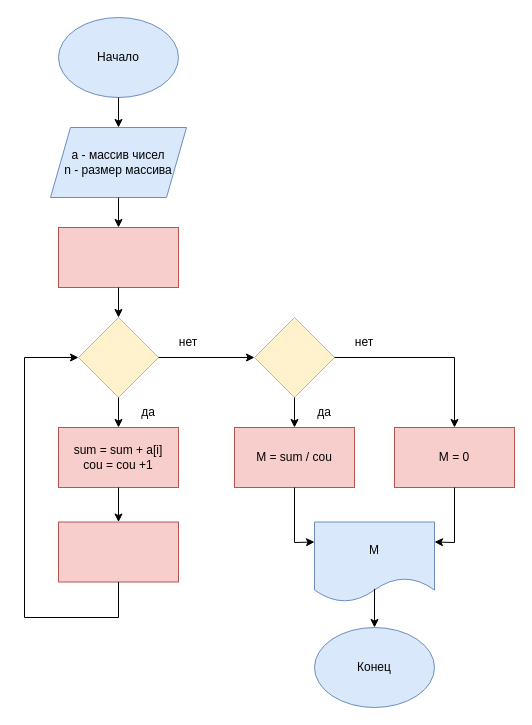
Some shapes in this 532 by 725 pixel diagram are drawn without their labels. The centre of each missing label's shape, as x and y in pixels:
"cou > 0" belongs at pixel 294 357.
"i < n" belongs at pixel 118 357.
"i = 0 sum = 0 cou = 0" belongs at pixel 118 257.
"i = i + 2" belongs at pixel 118 551.
